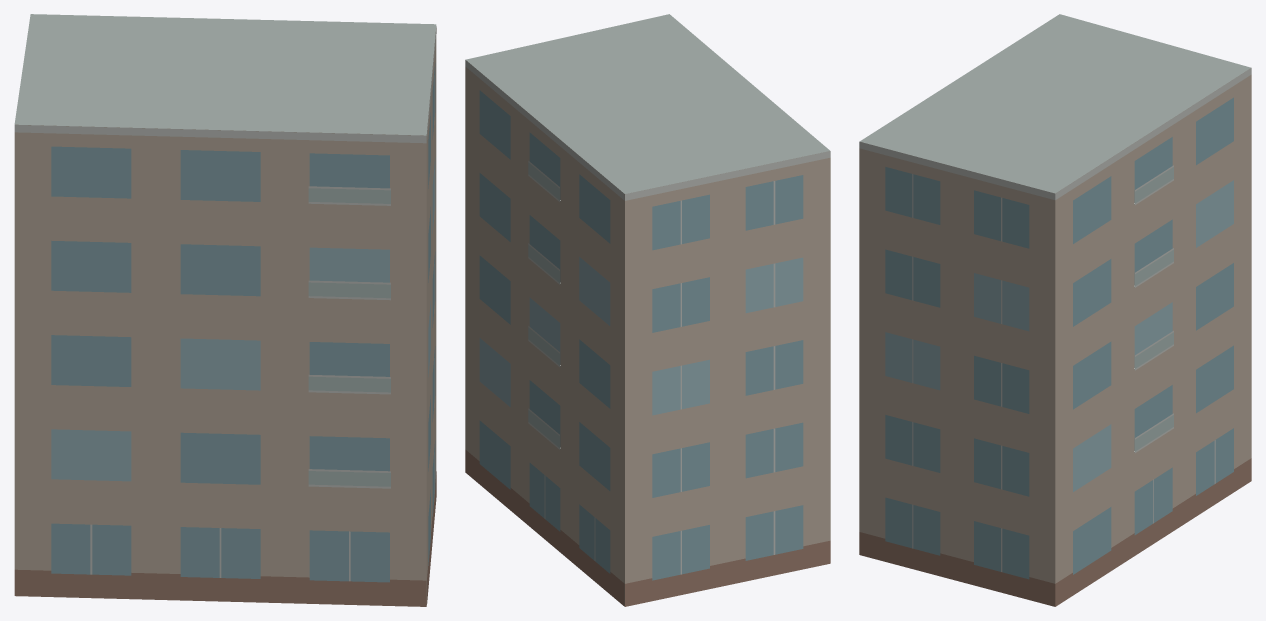
The model's file is survey-upis-32569603.glb.
3 views of the same model, side by side, from view 1: azimuth 30°, elevation 25°; view 2: azimuth 150°, elevation 25°; view 3: azimuth 270°, elevation 25° (orthographic). The views are drawn at different scales.
Parts seen in each view (by area): view 1: survey-upis-32569603.tmp; view 2: survey-upis-32569603.tmp; view 3: survey-upis-32569603.tmp.
Boxes of the visible parts, x1,y1,x2,y2 form: survey-upis-32569603.tmp: [14, 14, 436, 606]; survey-upis-32569603.tmp: [465, 14, 830, 606]; survey-upis-32569603.tmp: [859, 14, 1251, 606].
Bounding box in the file's own units: 13.89 × 14.9 × 12.82.
